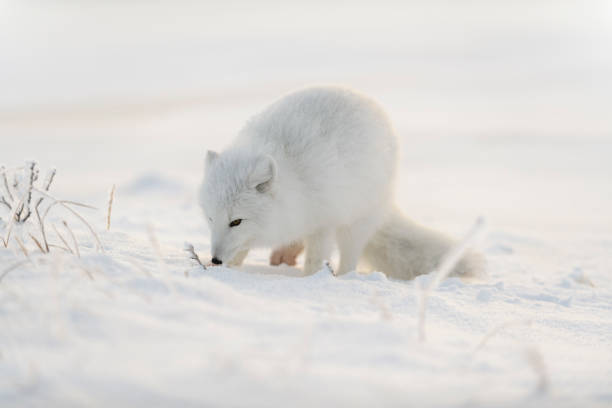arcticfox: (195, 153, 270, 267)
